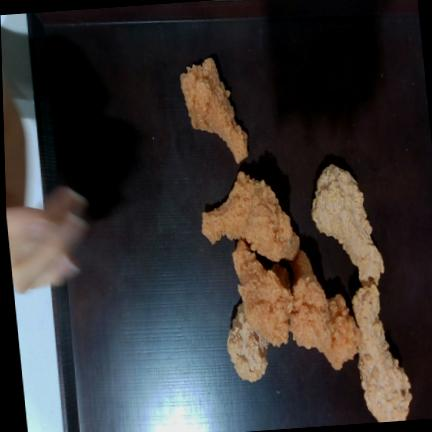chicken: (312, 164, 383, 284), (352, 284, 411, 421), (180, 57, 247, 163), (232, 239, 292, 346), (248, 180, 299, 261), (289, 250, 330, 350), (201, 171, 255, 243), (227, 304, 268, 381)
